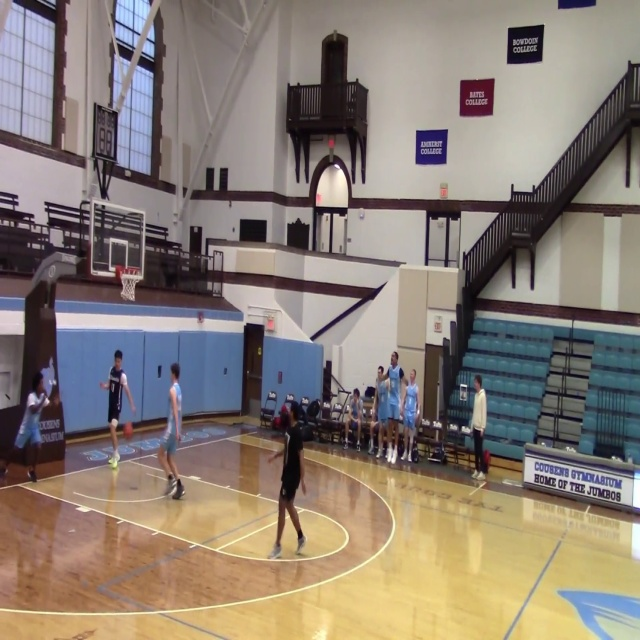Basketball: (123, 422, 133, 438), (540, 441, 546, 447)
